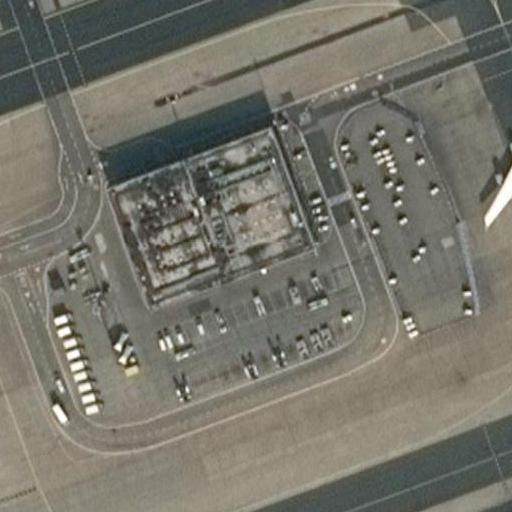Aircraft: (474, 59, 512, 260)
